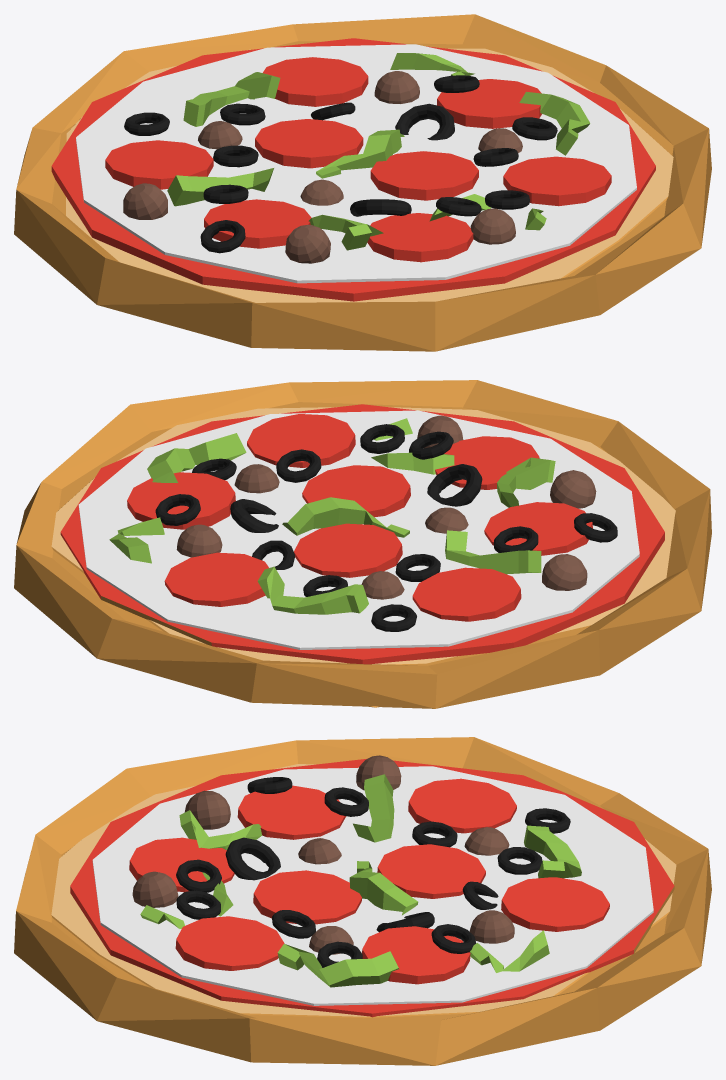
The model's file is Pizza.fbx.
The picture shows the model from 3 angles, top to bottom: view 1: azimuth 30°, elevation 25°; view 2: azimuth 150°, elevation 25°; view 3: azimuth 270°, elevation 25°; orthographic projection.
Parts seen in each view (by area): view 1: model; view 2: model; view 3: model.
Part boxes in pixels (box(x1,y1,x2,y2)): model: box(14, 14, 711, 351); model: box(14, 380, 711, 708); model: box(14, 737, 711, 1065).
Size of the model in its own units: 45.04 by 5.17 by 45.04.
